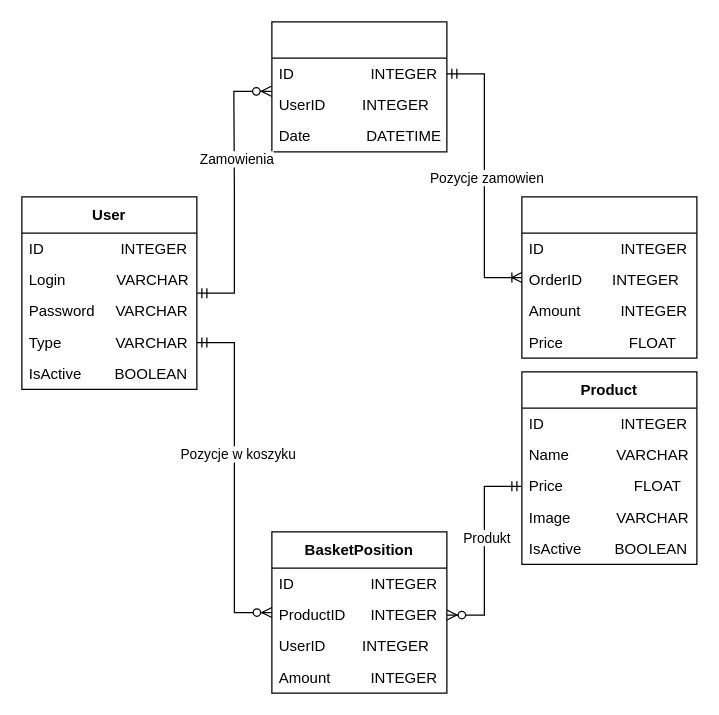
Image size: 719x715. Some labels were removed from this diagram. The shapes that lost their labels are listed below. From the top down, each one's box as (x1, y1, x2, y2) in pixels, then its label:
(271, 21, 447, 152): Order
(521, 196, 697, 358): OrderPosition
